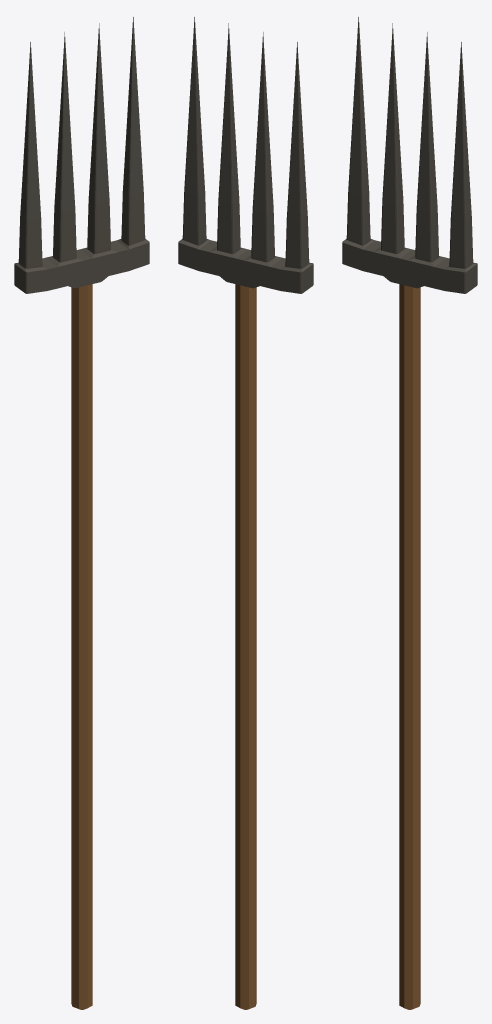
Rendered from Pitchfork_broken.fbx.
3 renders of one model, left to right at view 1: azimuth 30°, elevation 25°; view 2: azimuth 150°, elevation 25°; view 3: azimuth 330°, elevation 25°, orthographic.
Visible parts, largest first — view 1: Pitchfork, Pitchfork_cell.004, Pitchfork_cell.008, Pitchfork_cell.007, Pitchfork_cell.001, Pitchfork_cell.002, Pitchfork_cell, Pitchfork_cell.009, Pitchfork_cell.003, Pitchfork_cell.006; view 2: Pitchfork, Pitchfork_cell, Pitchfork_cell.003, Pitchfork_cell.004, Pitchfork_cell.009, Pitchfork_cell.008; view 3: Pitchfork, Pitchfork_cell.004, Pitchfork_cell.008, Pitchfork_cell.007, Pitchfork_cell.002, Pitchfork_cell.001, Pitchfork_cell, Pitchfork_cell.009, Pitchfork_cell.003, Pitchfork_cell.006.
Boxes of the visible parts, x1,y1,x2,y2 form: Pitchfork: [14, 17, 149, 1009]; Pitchfork_cell.004: [14, 116, 117, 293]; Pitchfork_cell.008: [122, 17, 144, 233]; Pitchfork_cell.007: [89, 23, 110, 224]; Pitchfork_cell.001: [111, 230, 149, 274]; Pitchfork_cell.002: [59, 32, 73, 175]; Pitchfork_cell: [71, 349, 72, 728]; Pitchfork_cell.009: [71, 285, 92, 352]; Pitchfork_cell.003: [71, 727, 72, 1005]; Pitchfork_cell.006: [26, 42, 35, 126]; Pitchfork: [178, 17, 313, 1009]; Pitchfork_cell: [235, 351, 255, 731]; Pitchfork_cell.003: [235, 728, 255, 1009]; Pitchfork_cell.004: [231, 116, 313, 292]; Pitchfork_cell.009: [235, 284, 256, 353]; Pitchfork_cell.008: [184, 19, 206, 230]; Pitchfork: [343, 17, 477, 1009]; Pitchfork_cell.004: [342, 92, 443, 288]; Pitchfork_cell.008: [449, 42, 471, 258]; Pitchfork_cell.007: [416, 32, 436, 236]; Pitchfork_cell.002: [385, 23, 401, 170]; Pitchfork_cell.001: [427, 255, 477, 293]; Pitchfork_cell: [416, 352, 420, 728]; Pitchfork_cell.009: [399, 284, 419, 350]; Pitchfork_cell.003: [419, 727, 420, 1005]; Pitchfork_cell.006: [354, 17, 360, 103].
Bounding box in the file's own units: 1.82 × 13.79 × 0.3184.
